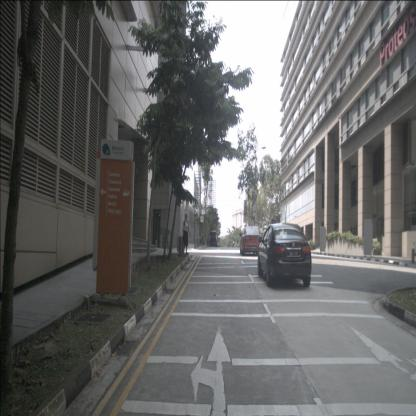human-pedestrian-adult: (182, 214, 191, 254)
vehicle-bus-rigid: (215, 236, 221, 248)
vehicle-car: (257, 222, 312, 287), (240, 226, 262, 256), (209, 230, 217, 247)
